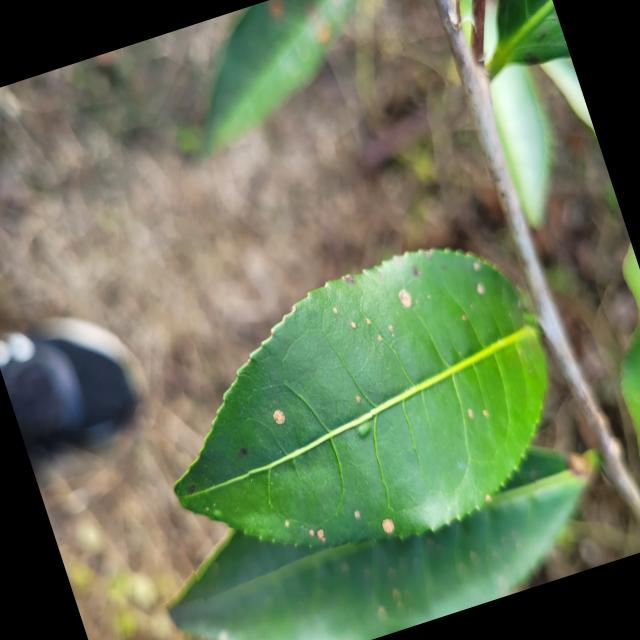Category D 7+ days, Not for Tea: (115, 198, 608, 616)
